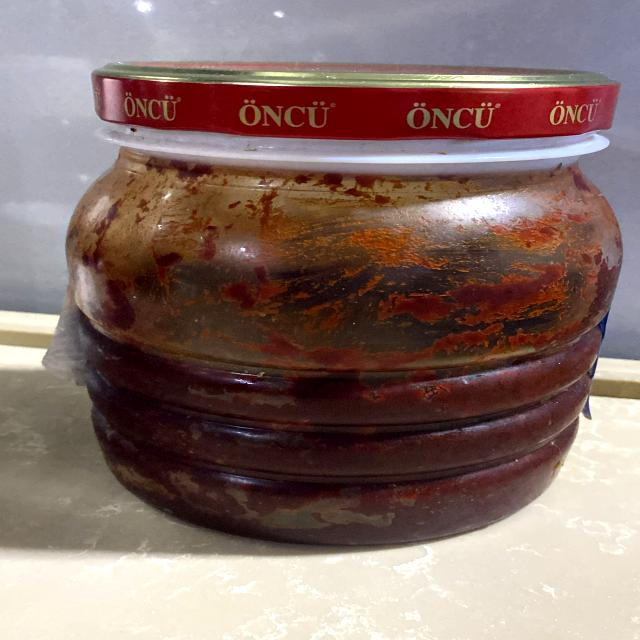tomato paste: (61, 46, 635, 554)
